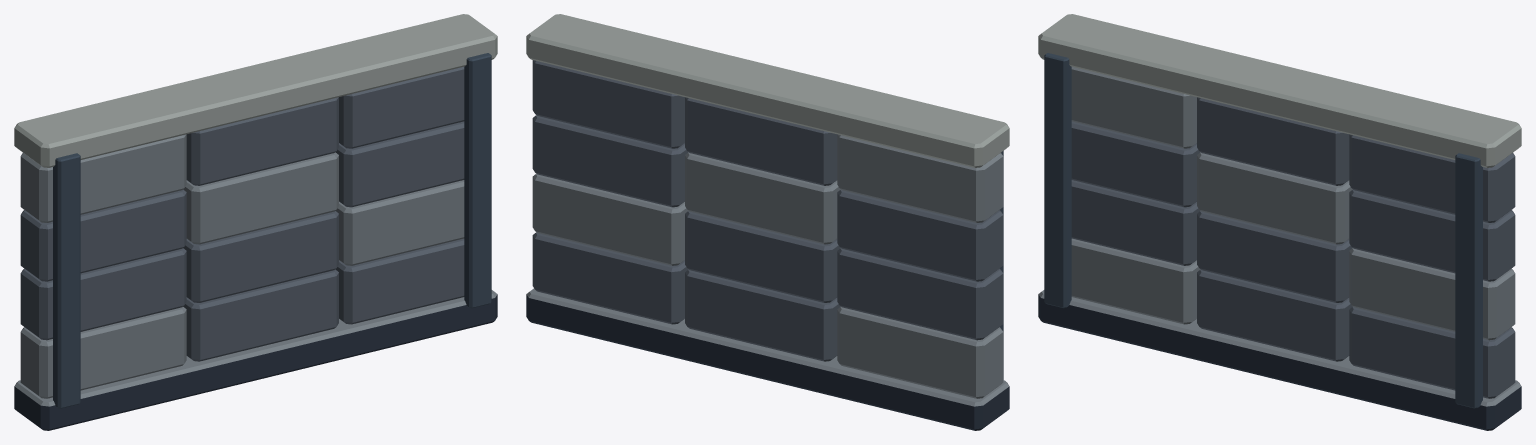
File: platform-edge.glb
3 renders of one model, left to right at view 1: azimuth 30°, elevation 25°; view 2: azimuth 150°, elevation 25°; view 3: azimuth 330°, elevation 25°, orthographic.
Parts seen in each view (by area): view 1: platform-edge__body; view 2: platform-edge__body; view 3: platform-edge__body.
Boxes of the visible parts, <box> form: platform-edge__body: <box>14,14,497,430</box>; platform-edge__body: <box>526,14,1009,430</box>; platform-edge__body: <box>1038,14,1521,430</box>.
Bounding box in the file's own units: 2 × 1.2 × 0.2775.
